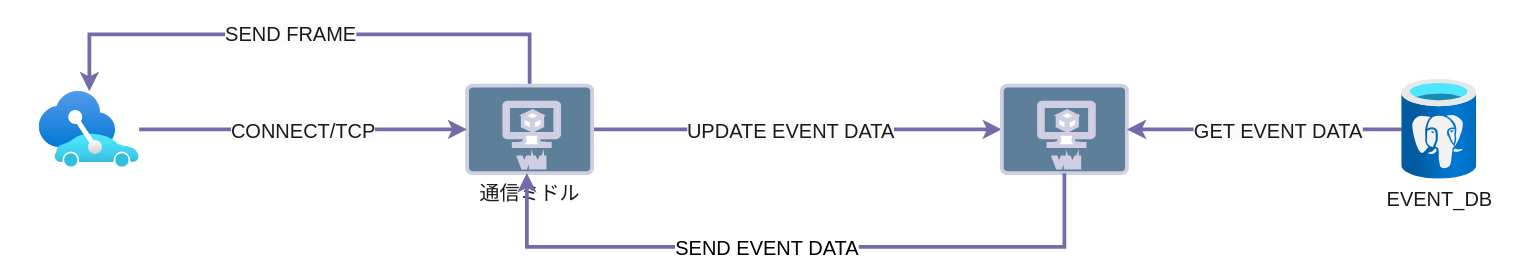
This 1514x280 diagram has some shape labels left out. The shapes that lost their labels are listed below. From the top down, each one's box as (x1, y1, x2, y2) in pixels, then its label:
(39, 91, 138, 167): DTS-D1/D2/G1
(999, 83, 1128, 174): 分析ミドル
